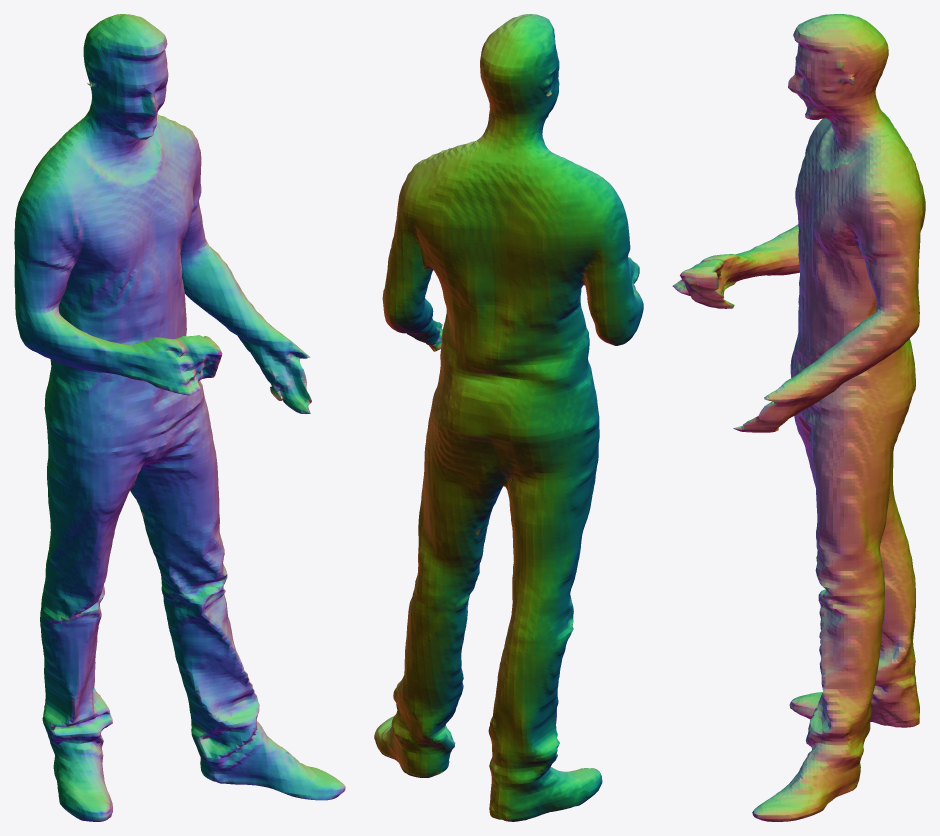
Rendered from result_test_256.obj.
3 views of the same model, side by side, from view 1: azimuth 30°, elevation 25°; view 2: azimuth 150°, elevation 25°; view 3: azimuth 270°, elevation 25° (orthographic). The views are drawn at different scales.
Size of the model in its own units: 0.6458 by 1.7 by 0.5367.
